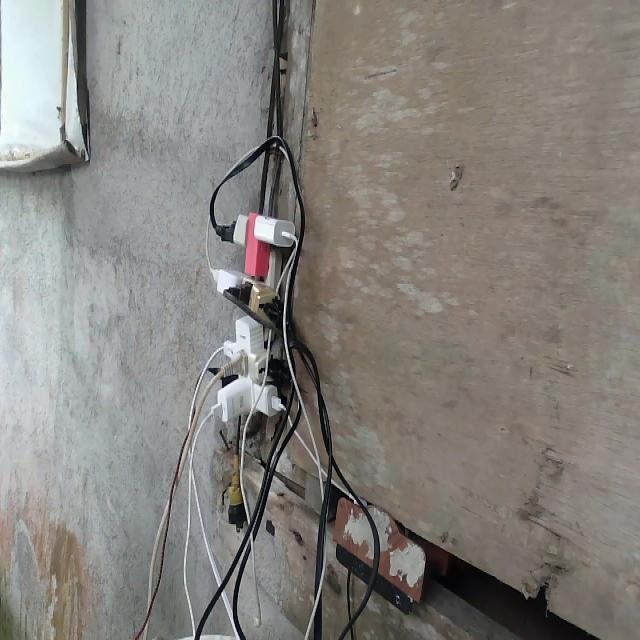-: (203, 199, 303, 444)
